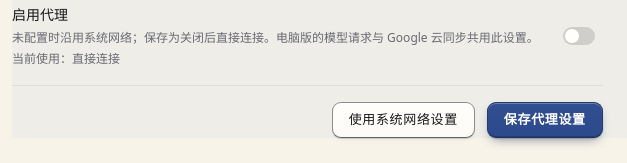
Test case: desktop system network selection › lets an existing explicit direct user return to system mode and retains it after remount
Click the button "使用系统网络设置" at (403, 120), box [332,102,475,138]
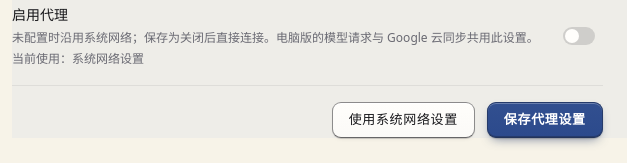
Now the text "当前使用：系统网络设置" is shown, box [12,50,144,67]
